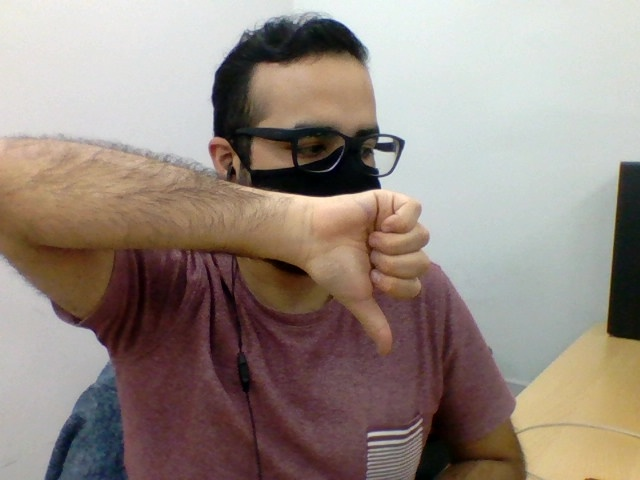ThumbsDown: (307, 188, 430, 356)
